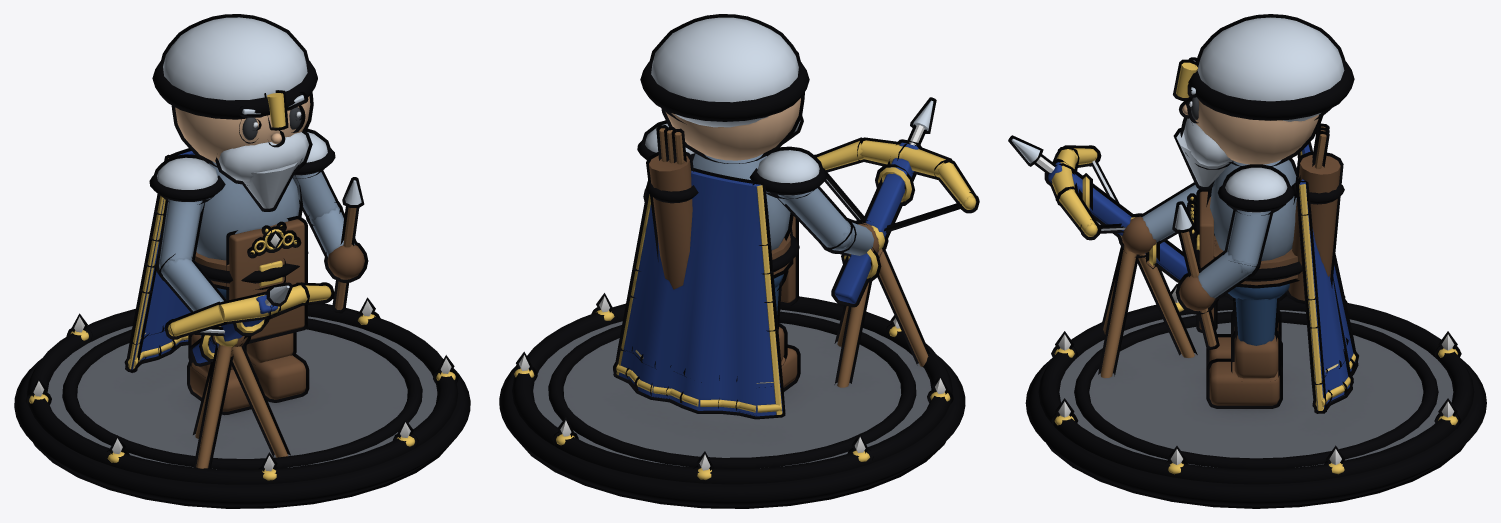
File: ballista_s5.fbx
The picture shows the model from 3 angles, left to right: view 1: azimuth 30°, elevation 25°; view 2: azimuth 150°, elevation 25°; view 3: azimuth 270°, elevation 25°; orthographic projection. The views are drawn at different scales.
Parts seen in each view (by area): view 1: ballista_s5; view 2: ballista_s5; view 3: ballista_s5.
Boxes of the visible parts, x1,y1,x2,y2 form: ballista_s5: (14,14,470,508); ballista_s5: (499,14,979,508); ballista_s5: (1008,14,1486,508).
Bounding box in the file's own units: 1.58 × 1.48 × 1.64.
Materials: 2 (1 with a texture image).
